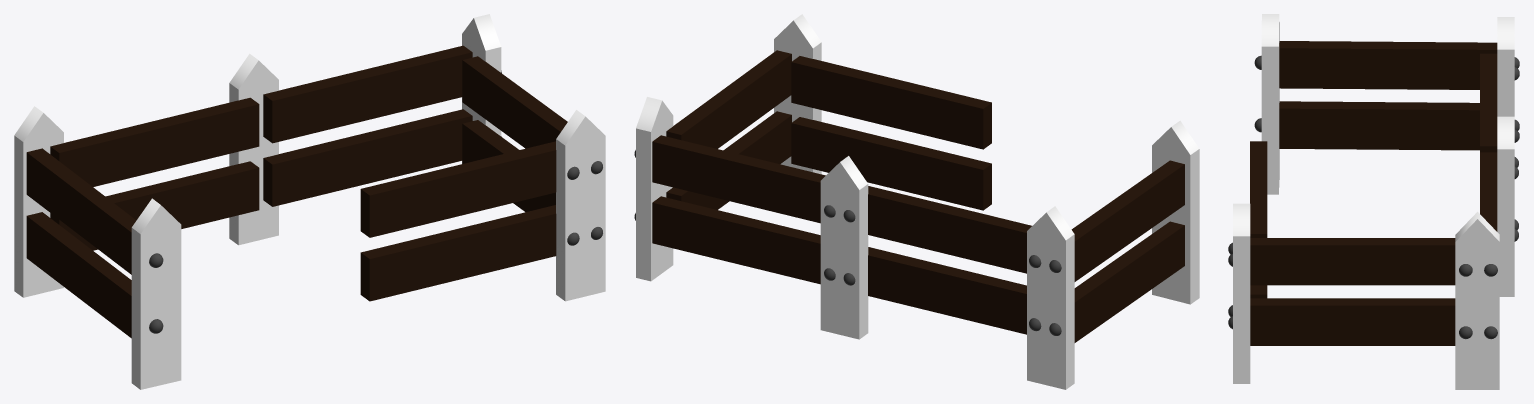
Rendered from padok3.fbx.
The picture shows the model from 3 angles, left to right: view 1: azimuth 30°, elevation 25°; view 2: azimuth 150°, elevation 25°; view 3: azimuth 270°, elevation 25°; orthographic projection. The views are drawn at different scales.
Visible parts, largest first — view 1: padok 013, padok 006, padok 032, padok 033, padok 015, padok 012, padok 031, padok 016, padok 004, padok 010, padok 014, padok 011 (+3 smaller); view 2: padok 033, padok 032, padok 013, padok 006, padok 015, padok 010, padok 009, padok 011, padok 016, padok 004, padok 014, padok 012 (+3 smaller); view 3: padok 016, padok 008, padok 014, padok 004, padok 007, padok 031, padok 009, padok 012, padok 011, padok 015, padok 033, padok 013.
Part boxes in pixels (box(x1,y1,x2,y2)): padok 013: box(263, 45, 472, 143); padok 006: box(263, 109, 472, 206); padok 032: box(360, 205, 556, 301); padok 033: box(360, 141, 556, 237); padok 015: box(50, 97, 259, 186); padok 012: box(131, 198, 181, 389); padok 031: box(556, 110, 605, 301); padok 016: box(26, 148, 136, 274); padok 004: box(26, 212, 131, 338); padok 010: box(50, 161, 259, 250); padok 014: box(462, 56, 567, 148); padok 011: box(14, 106, 63, 297); padok 033: box(791, 56, 991, 149); padok 032: box(791, 117, 991, 210); padok 013: box(652, 135, 825, 223); padok 006: box(652, 196, 820, 284); padok 015: box(868, 186, 1031, 273); padok 010: box(868, 247, 1026, 334); padok 009: box(820, 156, 868, 339); padok 011: box(1027, 206, 1074, 389); padok 016: box(1071, 160, 1184, 281); padok 004: box(1074, 221, 1184, 342); padok 014: box(666, 50, 791, 148); padok 012: box(1152, 120, 1199, 304); padok 016: box(1279, 41, 1497, 89); padok 008: box(1250, 298, 1455, 345); padok 014: box(1250, 238, 1455, 285); padok 004: box(1279, 101, 1479, 150); padok 007: box(1455, 211, 1499, 389); padok 031: box(1233, 203, 1250, 383); padok 009: box(1497, 116, 1514, 296); padok 012: box(1261, 14, 1279, 194); padok 011: box(1497, 17, 1514, 116); padok 015: box(1480, 53, 1497, 152); padok 033: box(1250, 141, 1267, 237); padok 013: box(1480, 152, 1497, 231).
Size of the model in its own units: 54.72 by 20.15 by 31.13.
